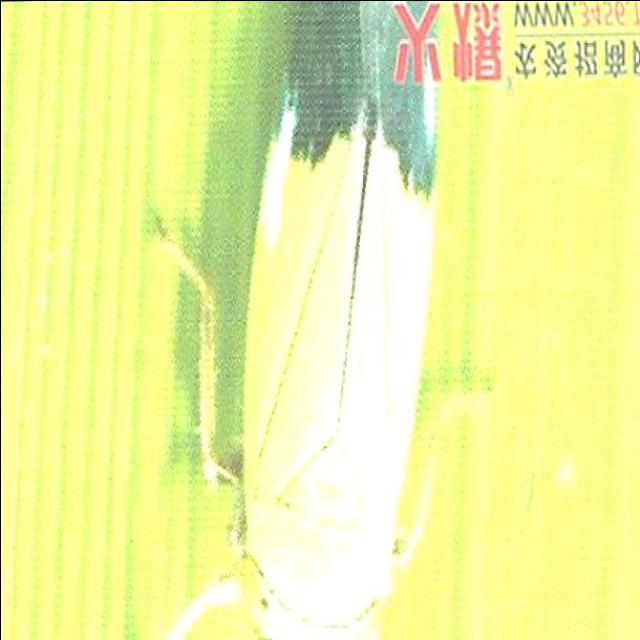green leaf hopper: (160, 109, 432, 640)
